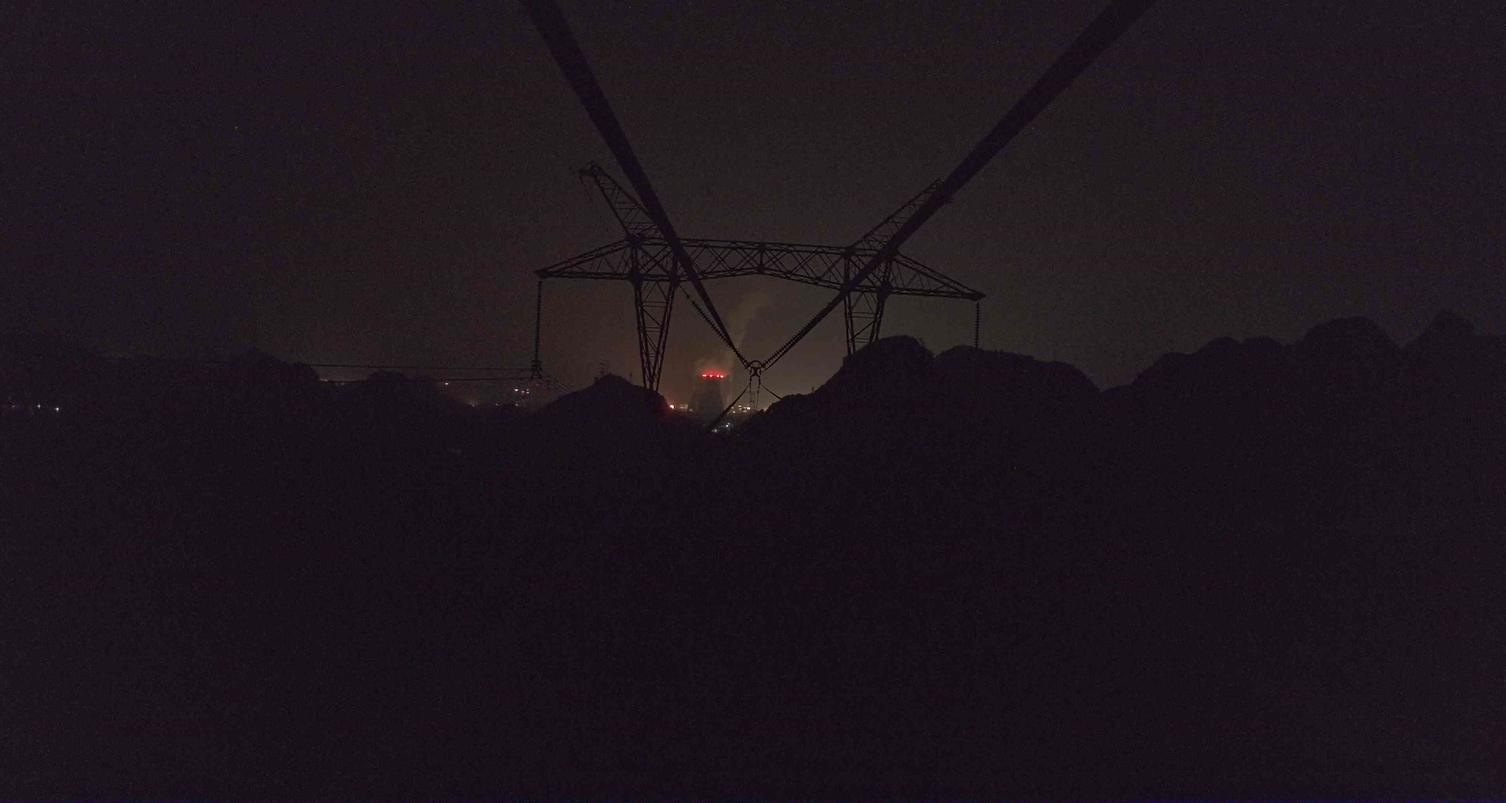工厂排烟: (690, 272, 777, 378)
